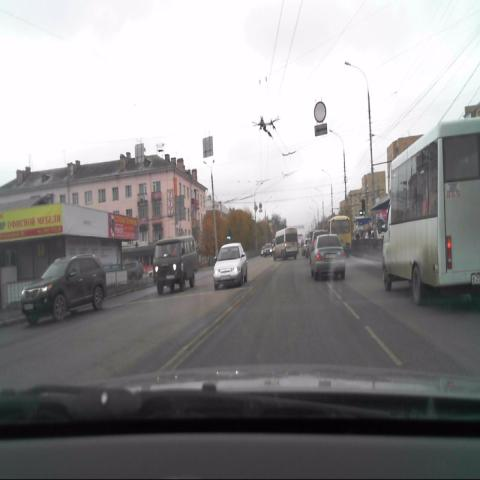3_2: (313, 101, 326, 122)
